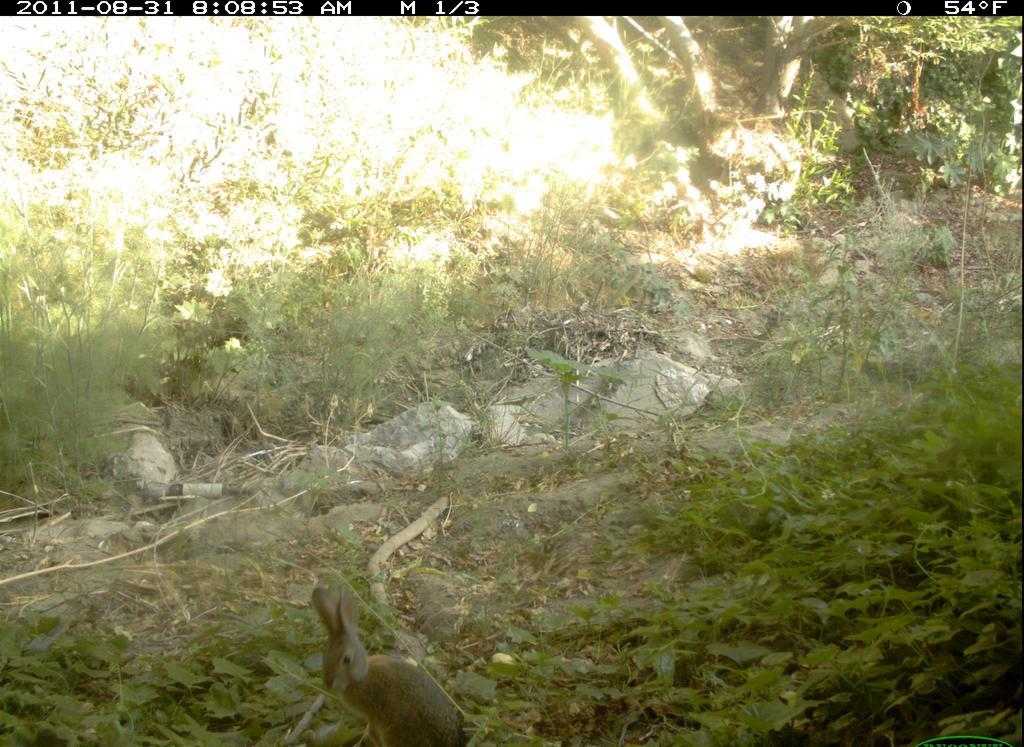rabbit: (303, 580, 474, 747)
